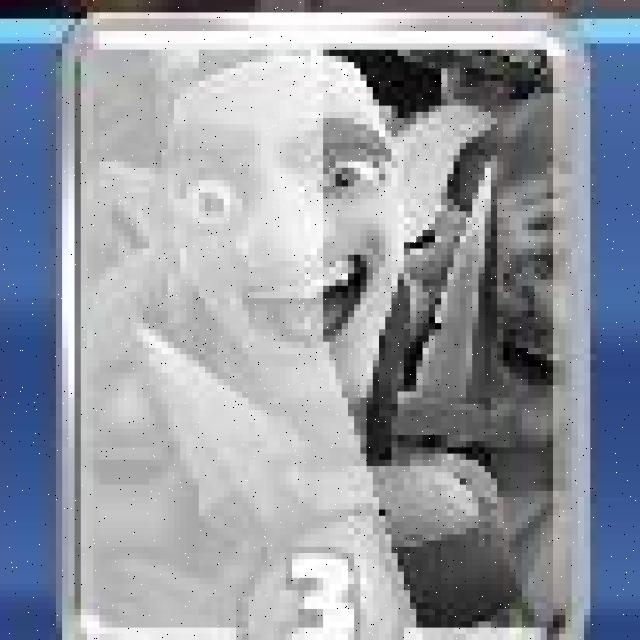Goblin_Gang: (60, 13, 591, 640)
